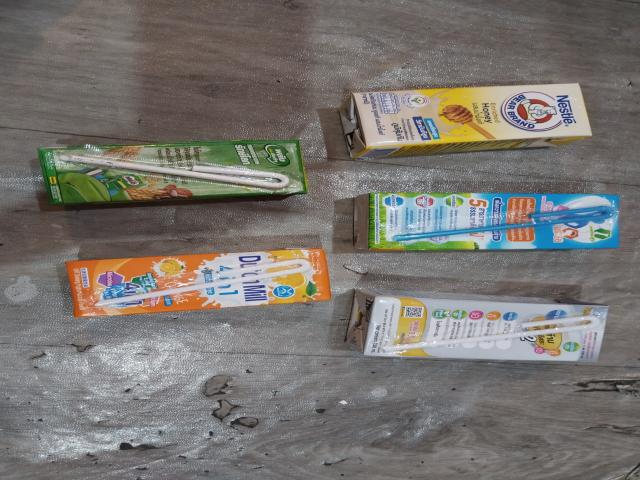drink_box: (350, 286, 614, 369), (352, 187, 630, 258), (331, 85, 612, 151), (36, 138, 319, 200), (47, 253, 331, 313)
